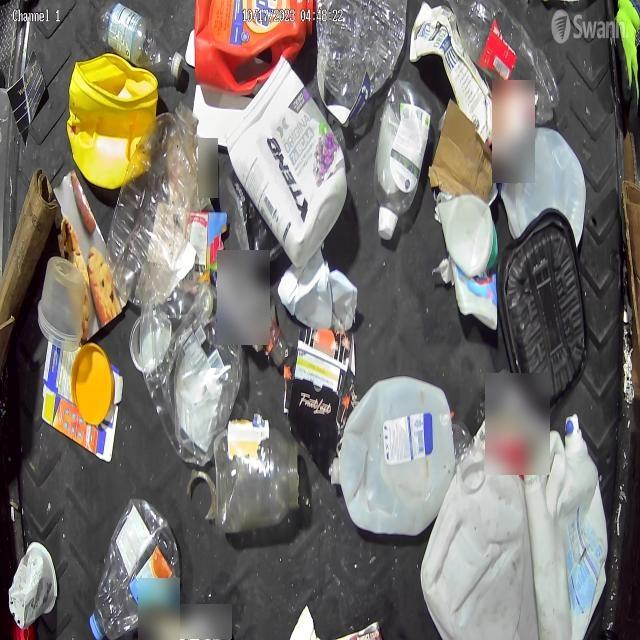milk_jug: (421, 444, 531, 636), (336, 378, 453, 536), (530, 417, 612, 639)
non_white_jug: (66, 55, 158, 192), (193, 2, 307, 98)
plastic_bottle: (447, 0, 560, 126), (372, 85, 430, 238), (99, 3, 184, 77)
